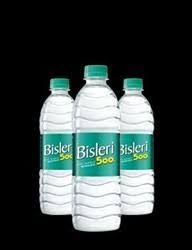Bisleri: (74, 143, 111, 162), (119, 145, 155, 163), (44, 142, 72, 161)
plastic: (75, 102, 119, 231), (122, 102, 156, 214), (47, 99, 72, 212)
